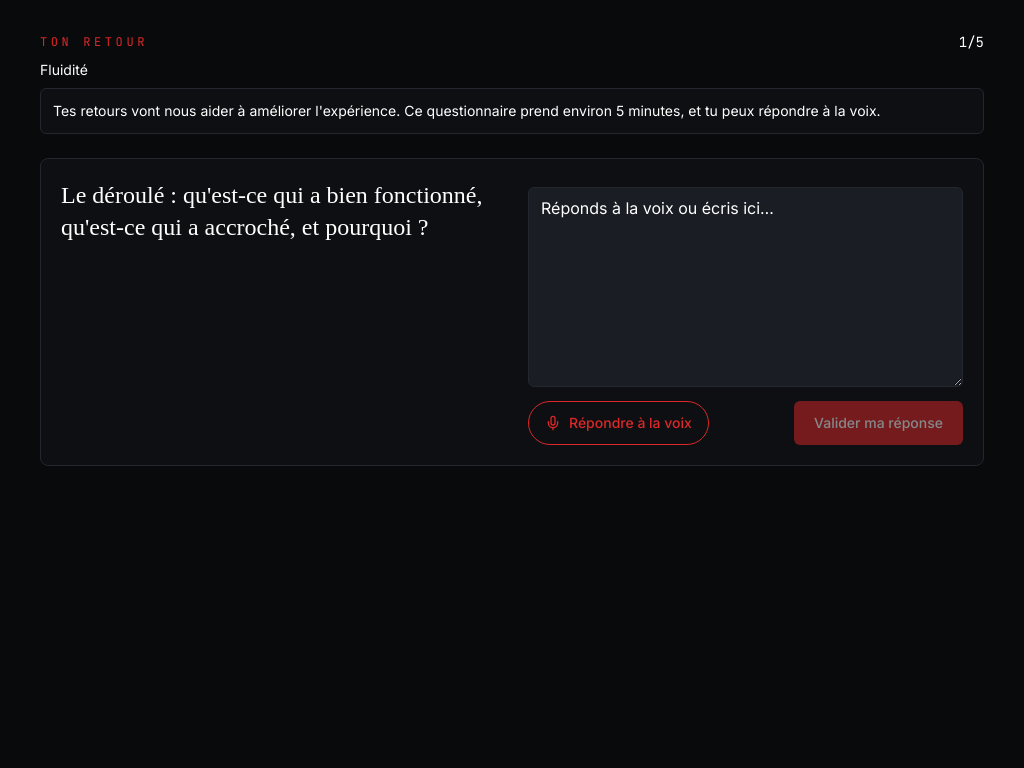
Test: ConversationalQuestionnaire › shows a single follow-up and a spoken score that needs confirmation
Type "Bof, je dirais 2." into the text box named "Ta réponse" at [746, 287], box [528, 187, 963, 387]
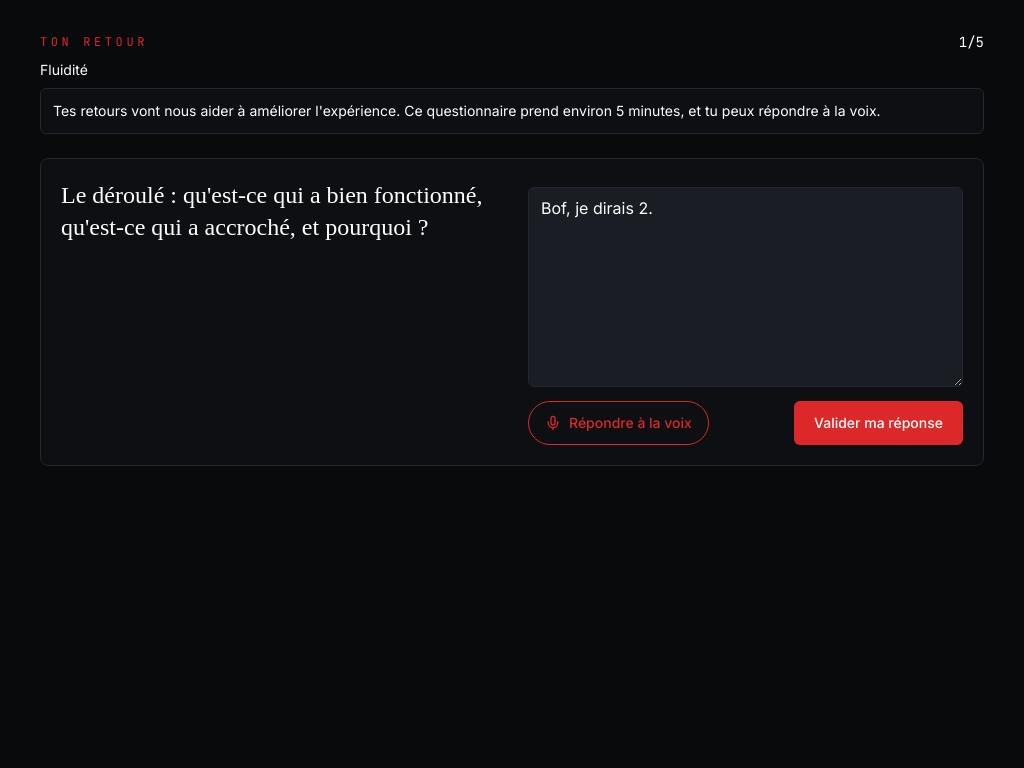
Click the button "Valider ma réponse" at [878, 423], box [794, 401, 963, 445]
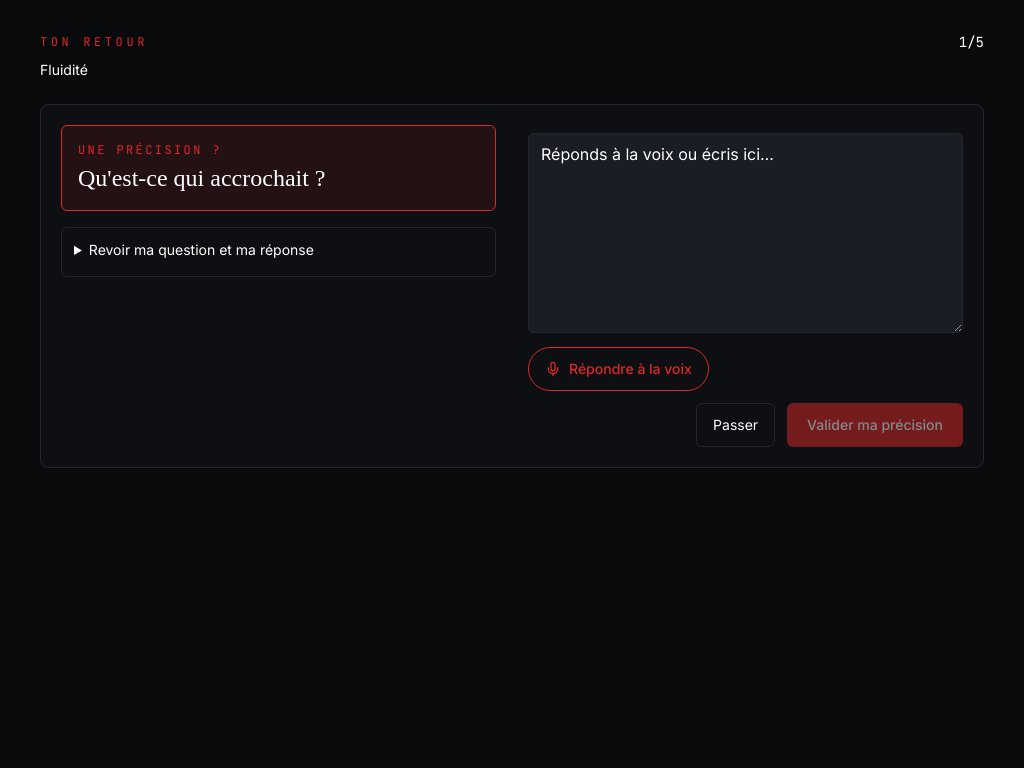
Check: the heading "Qu'est-ce qui accrochait ?" is shown, box [78, 165, 326, 191]
Type "Les silences." into the text box named "Ta précision" at [746, 233], box [528, 133, 963, 333]
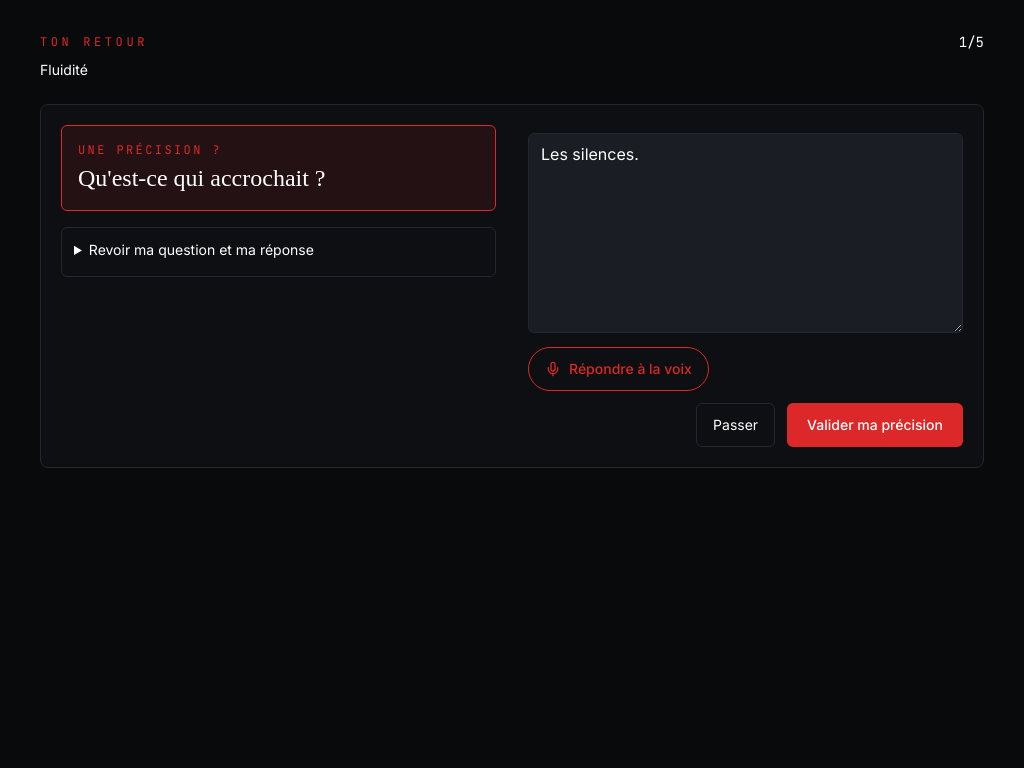
Click the button "Valider ma précision" at [875, 425], box [787, 403, 963, 447]
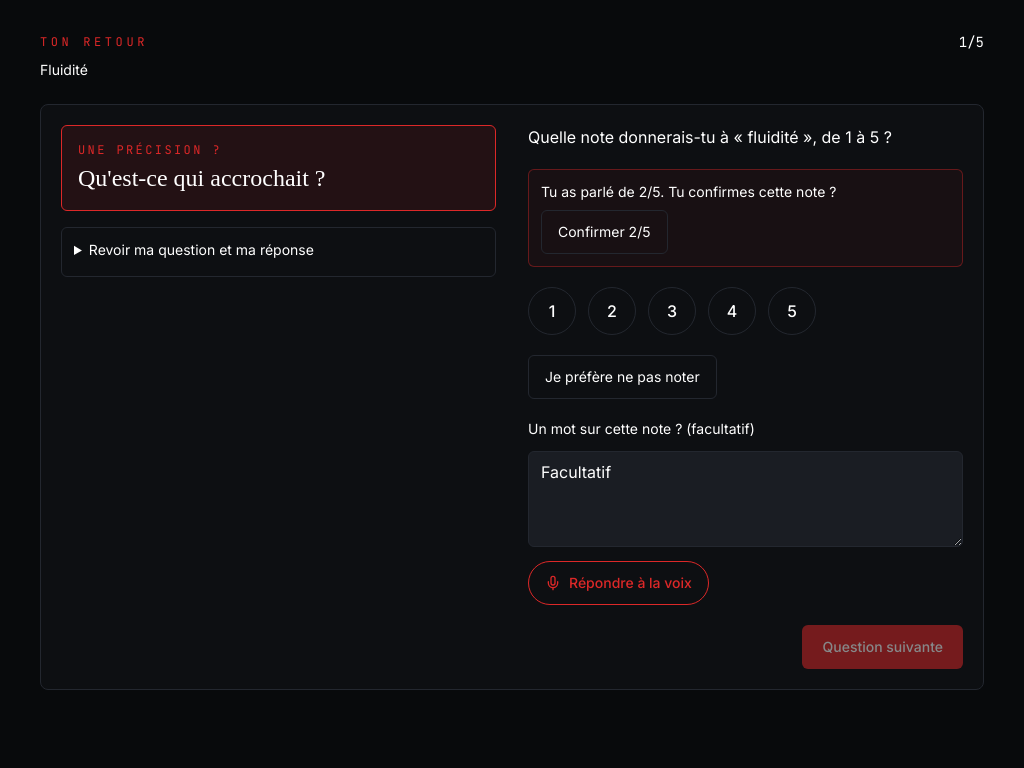
Check: the text "Tu as parlé de 2/5. Tu confirmes cette note ?" is shown, box [541, 183, 836, 200]
Check: the button "Question suivante" is disabled, box [802, 625, 963, 669]
Click the button "Confirmer 2/5" at [604, 232], box [541, 210, 668, 254]
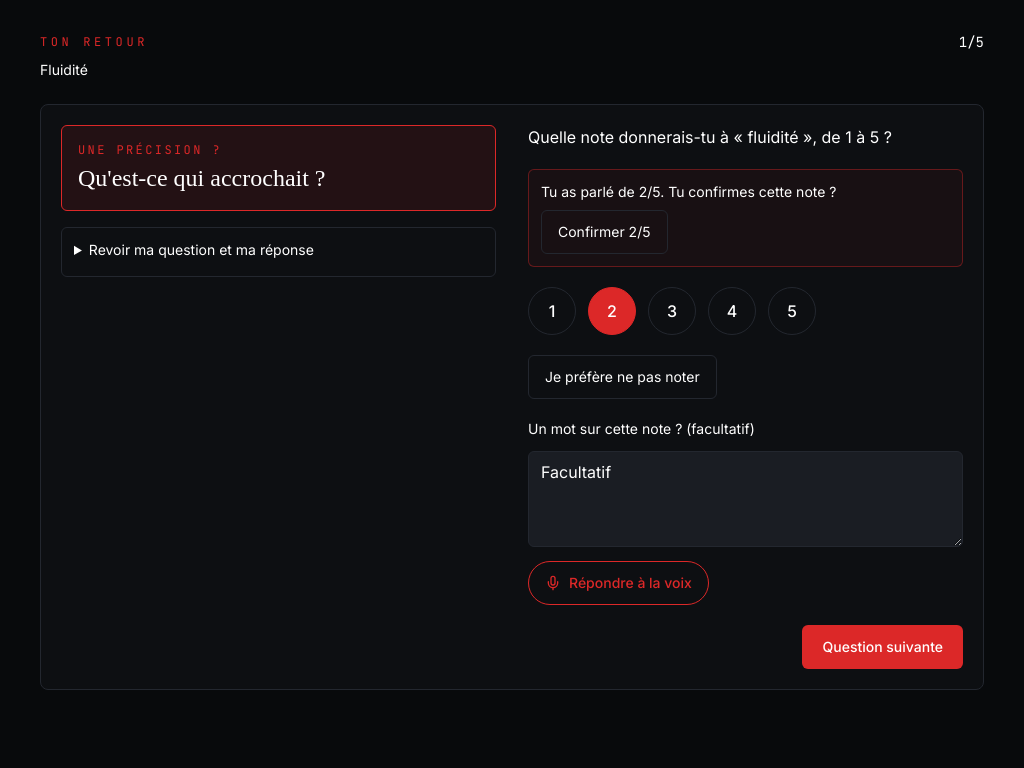
Click the button "Question suivante" at [883, 647], box [802, 625, 963, 669]
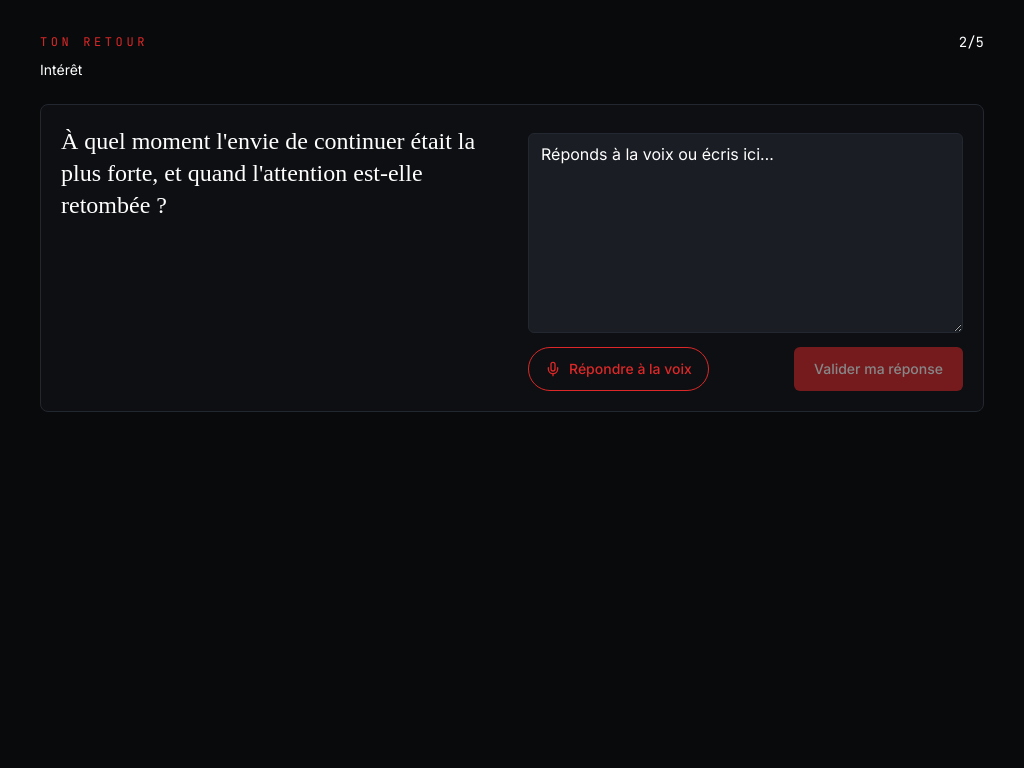
Check: the text "2/5" is shown, box [959, 32, 984, 52]
